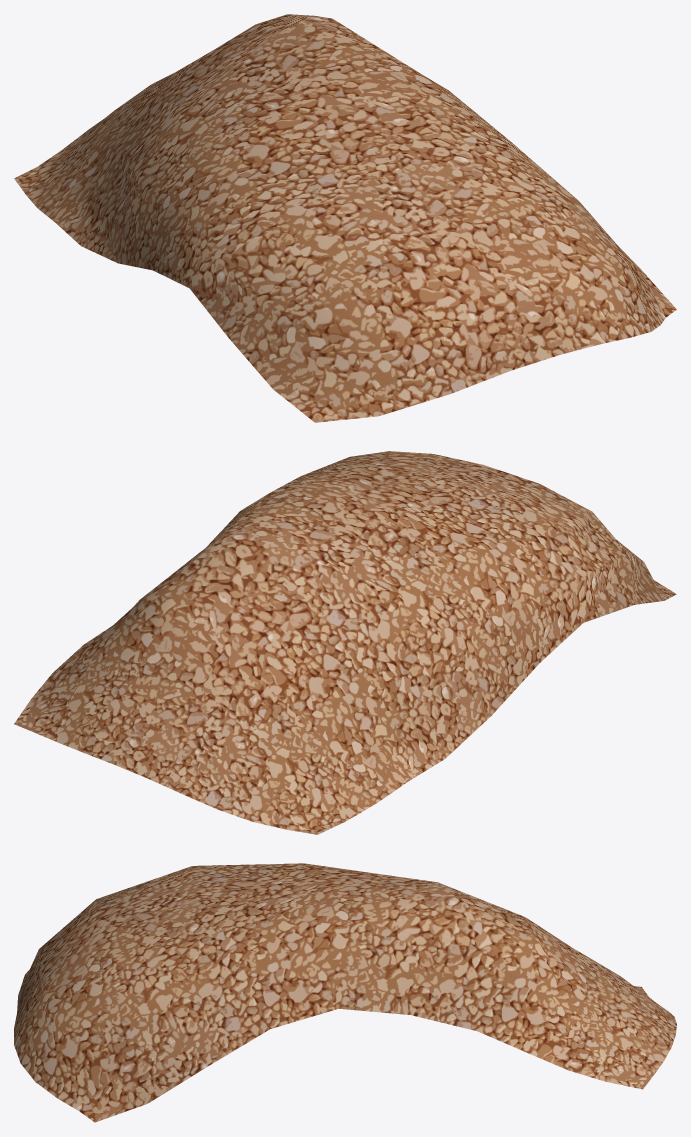
The model's file is m_PileOfRocks.fbx.
3 renders of one model, top to bottom at view 1: azimuth 30°, elevation 25°; view 2: azimuth 150°, elevation 25°; view 3: azimuth 270°, elevation 25°, orthographic. The views are drawn at different scales.
Visible parts, largest first — view 1: pPlane16; view 2: pPlane16; view 3: pPlane16.
Part boxes in pixels (x1,y1,x2,y2): pPlane16: [14, 14, 676, 422]; pPlane16: [14, 451, 676, 834]; pPlane16: [14, 863, 676, 1122].
Size of the model in its own units: 9.23 by 4.16 by 14.84.
1 material, 1 textured.
